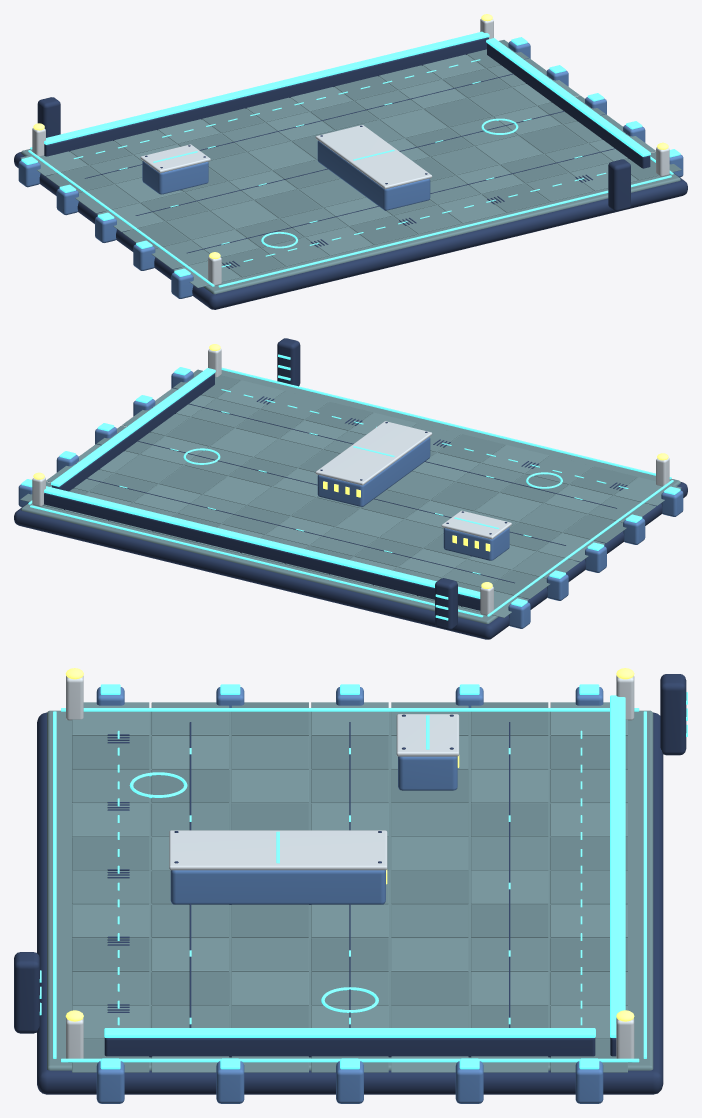
Rendered from reactor.glb.
3 renders of one model, top to bottom at view 1: azimuth 30°, elevation 25°; view 2: azimuth 150°, elevation 25°; view 3: azimuth 270°, elevation 25°, orthographic. The views are drawn at different scales.
Parts seen in each view (by area): view 1: Arena floor, Floating foundation, Reflector base, Cover cap, Reflector beam, Cover, Reflector base.001, Reflector beam.001, Cover.001, Edge light.001, Cover cap.001, Service tower.001 (+79 smaller); view 2: Arena floor, Floating foundation, Reflector base, Cover cap, Reflector beam, Cover, Reflector base.001, Reflector beam.001, Cover.001, Edge light.001, Edge light, Cover cap.001 (+69 smaller); view 3: Arena floor, Floating foundation, Reflector base.001, Cover cap, Cover, Reflector beam, Reflector beam.001, Floor panel.023, Floor panel.030, Floor panel.044, Floor panel.051, Floor panel.053 (+82 smaller).
Part boxes in pixels (x1,y1,x2,y2): Arena floor: (21, 55, 680, 294); Floating foundation: (14, 152, 687, 309); Reflector base: (44, 37, 488, 156); Cover cap: (315, 125, 432, 189); Reflector beam: (44, 31, 489, 144); Cover: (317, 140, 430, 210); Reflector base.001: (487, 43, 650, 168); Reflector beam.001: (486, 38, 650, 156); Cover.001: (142, 161, 208, 194); Edge light.001: (218, 175, 671, 287); Cover cap.001: (140, 144, 210, 173); Service tower.001: (608, 159, 630, 211); Arena floor: (21, 370, 680, 623); Floating foundation: (14, 482, 687, 639); Reflector base: (44, 493, 480, 610); Cover cap: (315, 421, 432, 485); Reflector beam: (44, 486, 480, 598); Cover: (317, 437, 430, 507); Reflector base.001: (51, 373, 214, 491); Reflector beam.001: (51, 368, 215, 486); Cover.001: (443, 527, 509, 560); Edge light.001: (221, 367, 671, 479); Edge light: (30, 505, 483, 617); Cover cap.001: (441, 510, 511, 539); Arena floor: (47, 710, 653, 1070); Floating foundation: (37, 712, 663, 1094); Reflector base.001: (104, 1038, 595, 1057); Cover cap: (169, 830, 387, 870); Cover: (170, 870, 385, 904); Reflector beam: (610, 695, 625, 1037); Reflector beam.001: (104, 1028, 595, 1037); Floor panel.023: (391, 803, 468, 836); Floor panel.030: (391, 837, 468, 870); Floor panel.044: (391, 904, 468, 937); Floor panel.051: (391, 938, 468, 971); Floor panel.053: (231, 938, 308, 971).
Size of the model in its own units: 22.9 by 2.35 by 16.89.
